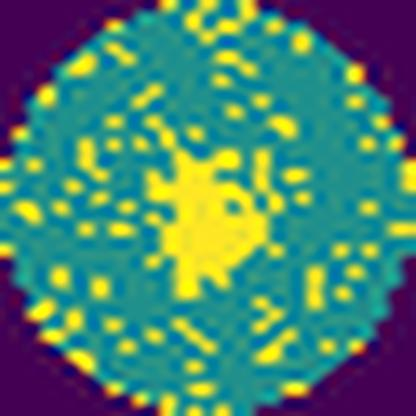Center: (138, 137, 293, 304)
